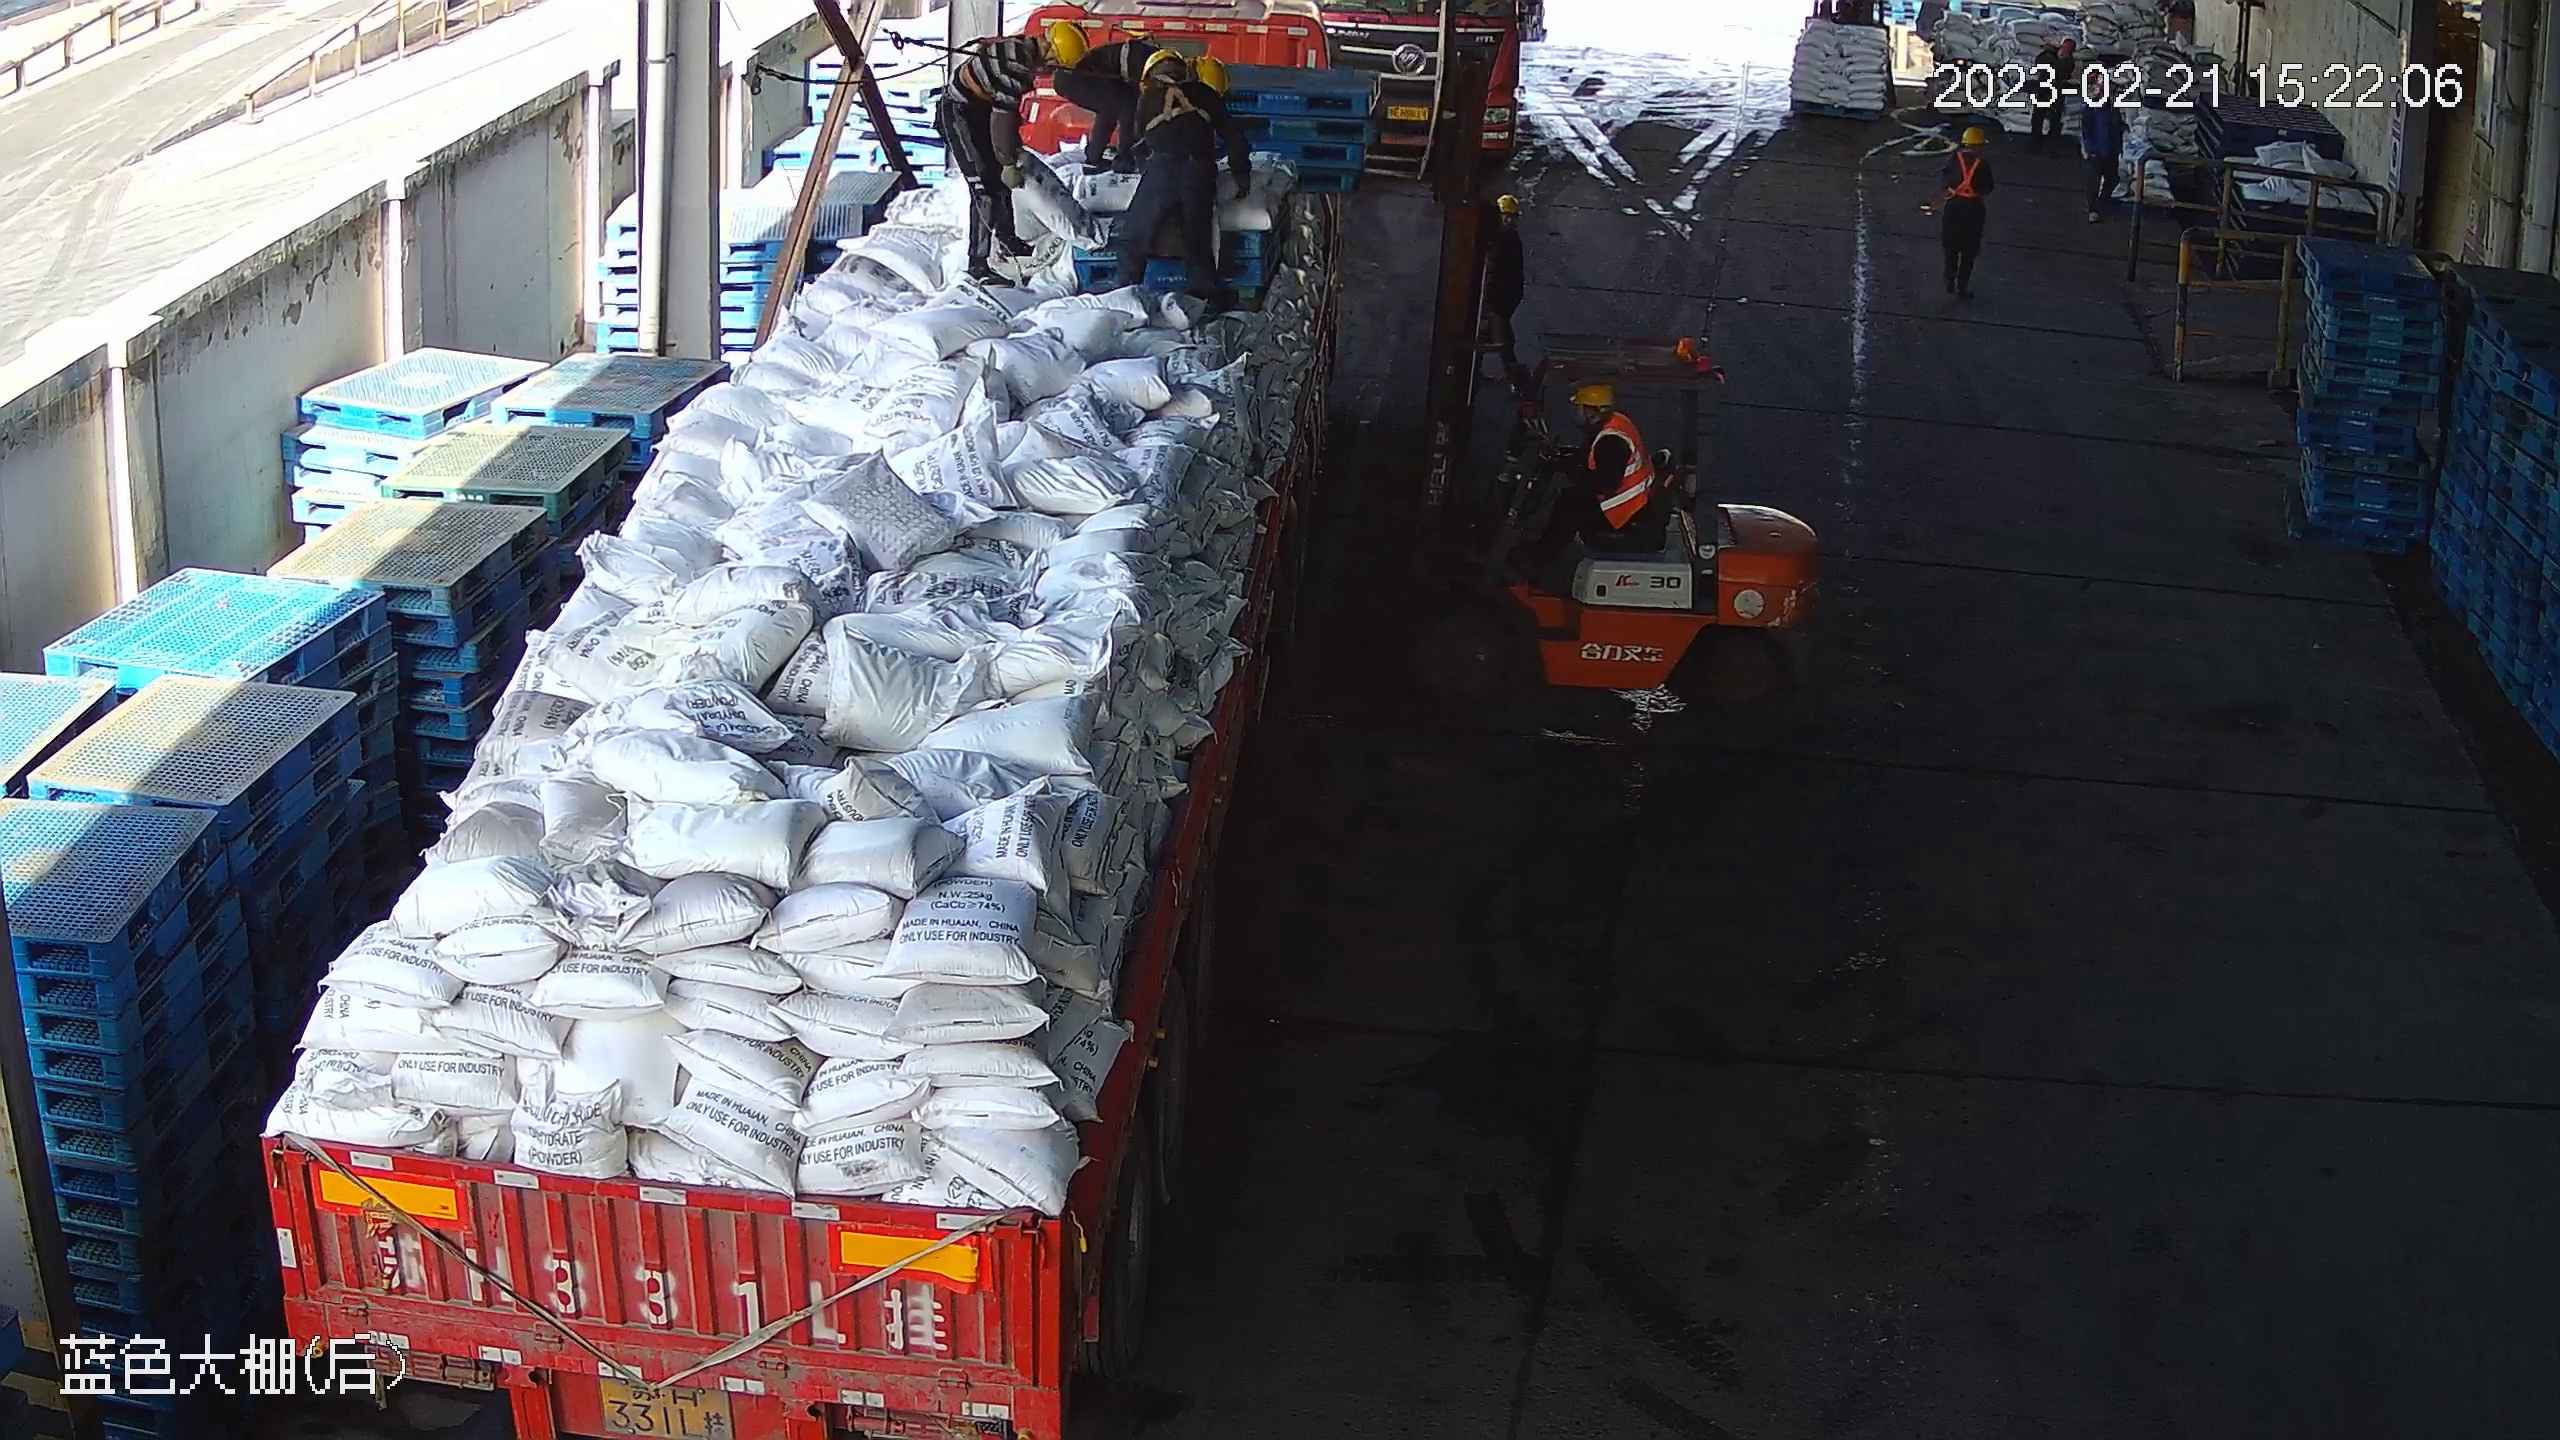belt: (956, 34, 1030, 105), (1143, 73, 1214, 134)
head: (980, 12, 1088, 98), (1570, 381, 1654, 480), (1136, 45, 1219, 124), (1491, 189, 1530, 267), (1952, 123, 1994, 182)
helmet: (1043, 17, 1089, 74), (1138, 50, 1184, 90), (1193, 51, 1230, 95), (1571, 378, 1619, 409), (1961, 123, 1988, 147), (1495, 191, 1522, 215)
people: (938, 20, 1087, 289), (1114, 50, 1252, 294), (1534, 377, 1684, 566), (1483, 190, 1533, 379), (1943, 123, 1993, 295)
truck: (250, 1, 1350, 1436), (1326, 4, 1550, 169)
